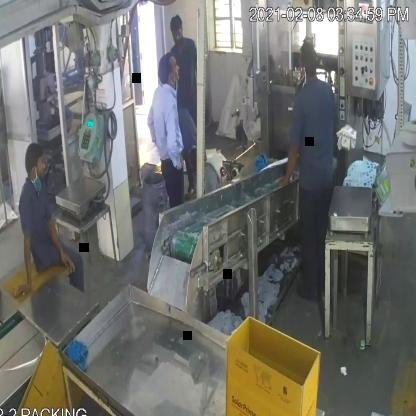no_glove: (46, 201, 78, 287), (12, 211, 38, 304), (165, 104, 188, 182), (276, 130, 299, 208)
